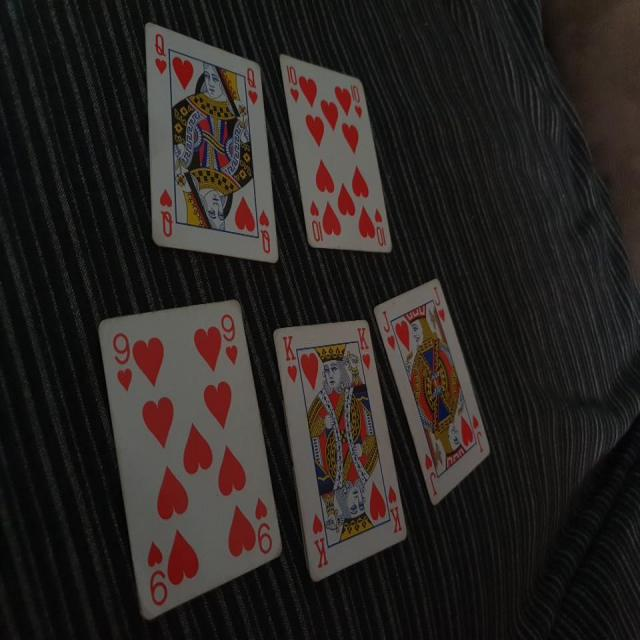10 Hearts: (272, 44, 393, 260)
9 Hearts: (98, 289, 288, 622)
J Hearts: (371, 271, 498, 512)
K Hearts: (270, 314, 412, 586)
Q Hearts: (139, 15, 283, 266)
